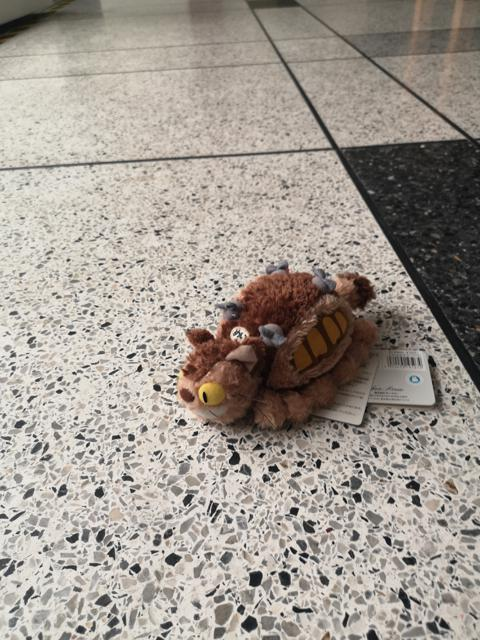nekobus: (173, 256, 391, 440)
